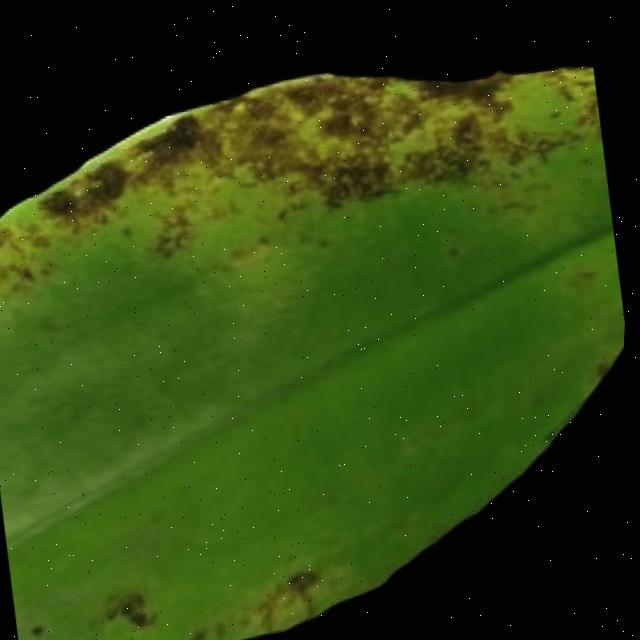mite: (22, 557, 336, 640), (24, 584, 167, 640), (143, 202, 200, 262), (562, 256, 602, 288), (288, 564, 327, 595), (26, 615, 59, 640), (540, 99, 570, 123), (594, 355, 615, 376), (31, 622, 52, 640), (545, 104, 563, 116)
spots: (0, 31, 628, 640)
